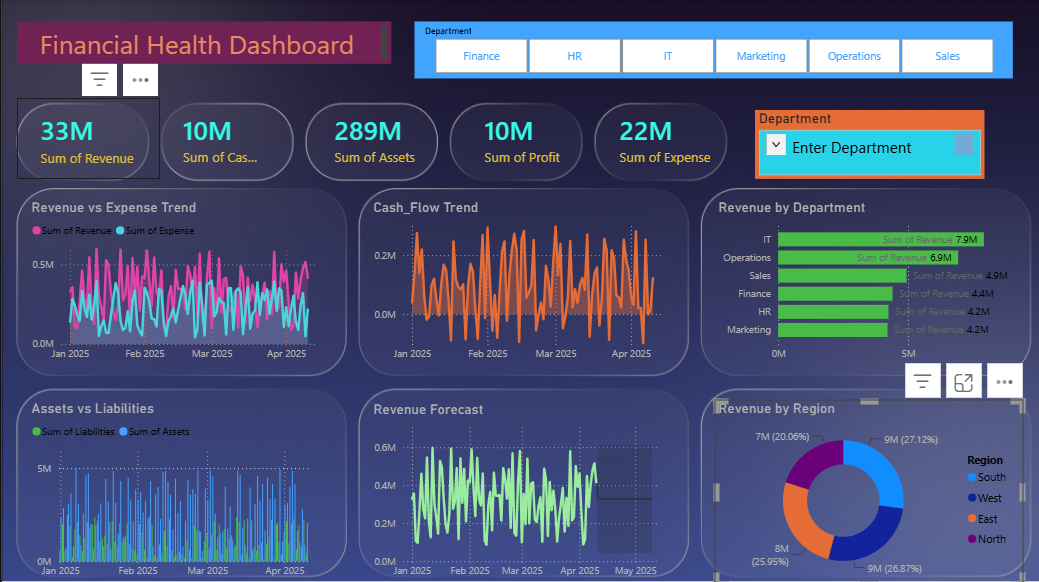

What the dashboard file says about the page in this screenshot:
{"tool":"powerbi","page":{"name":"Page 1","canvas":[1280,720],"ordinal":0},"visuals":[{"type":"lineChart","title":" Revenue vs Expense Trend","fields":{"Y":["Sum(company_financial_dataset.Revenue)","Sum(company_financial_dataset.Expense)"],"Category":["company_financial_dataset.Date"]},"box":[31.3,245.2,374.2,208.3],"z":0},{"type":"areaChart","title":" Cash_Flow Trend","fields":{"Y":["Sum(company_financial_dataset.Cash_Flow)"],"Category":["company_financial_dataset.Date"]},"box":[452,246,378,208],"z":1000},{"type":"barChart","title":"Revenue by Department","fields":{"Y":["Sum(company_financial_dataset.Revenue)"],"Category":["company_financial_dataset.Department"]},"box":[875.7,245.2,379.8,208.3],"z":2000},{"type":"clusteredColumnChart","title":"Assets vs Liabilities","fields":{"Y":["Sum(company_financial_dataset.Liabilities)","Sum(company_financial_dataset.Assets)"],"Category":["company_financial_dataset.Date"]},"box":[31.3,492.2,374.2,228.6],"z":3000},{"type":"lineChart","title":" Revenue Forecast","fields":{"Y":["Sum(company_financial_dataset.Revenue)"],"Category":["company_financial_dataset.Date"]},"box":[451.7,494.1,377.9,226.8],"z":4000},{"type":"donutChart","title":" Revenue by Region","fields":{"Y":["Sum(company_financial_dataset.Revenue)"],"Category":["company_financial_dataset.Region"]},"box":[875.7,492.2,379.8,228.6],"z":5000},{"type":"cardVisual","fields":{"Data":["Sum(company_financial_dataset.Revenue)"]},"box":[18,122,176,100],"z":6000},{"type":"cardVisual","fields":{"Data":["Sum(company_financial_dataset.Cash_Flow)"]},"box":[193.6,121.7,151.2,99.5],"z":7000},{"type":"cardVisual","fields":{"Data":["Sum(company_financial_dataset.Assets)"]},"box":[379.8,121.7,197.3,99.5],"z":8000},{"type":"cardVisual","fields":{"Data":["Sum(company_financial_dataset.Profit)"]},"box":[564.1,121.7,151.2,99.5],"z":9000},{"type":"cardVisual","fields":{"Data":["Sum(company_financial_dataset.Expense)"]},"box":[730,121.7,195.4,99.5],"z":10000},{"type":"textSlicer","fields":{"Values":["company_financial_dataset.Department"]},"box":[925.4,136.4,282.1,84.8],"z":11000},{"type":"textbox","box":[18,28,460,52],"z":12000},{"type":"slicer","fields":{"Values":["company_financial_dataset.Department"]},"box":[507,27.7,735.6,70.1],"z":13000}]}

Visuals, with their boxes in screenshot pixels (x1, y1, x2, y2), scaled from the page's 1280x720 canvas onto the 1039x582 screenshot:
" Revenue vs Expense Trend" lineChart: (left=25, top=198, right=329, bottom=367)
" Cash_Flow Trend" areaChart: (left=367, top=199, right=674, bottom=367)
"Revenue by Department" barChart: (left=711, top=198, right=1019, bottom=367)
"Assets vs Liabilities" clusteredColumnChart: (left=25, top=398, right=329, bottom=581)
" Revenue Forecast" lineChart: (left=367, top=399, right=673, bottom=581)
" Revenue by Region" donutChart: (left=711, top=398, right=1019, bottom=581)
cardVisual - Sum(company_financial_dataset.Revenue): (left=15, top=99, right=157, bottom=179)
cardVisual - Sum(company_financial_dataset.Cash_Flow): (left=157, top=98, right=280, bottom=179)
cardVisual - Sum(company_financial_dataset.Assets): (left=308, top=98, right=468, bottom=179)
cardVisual - Sum(company_financial_dataset.Profit): (left=458, top=98, right=581, bottom=179)
cardVisual - Sum(company_financial_dataset.Expense): (left=593, top=98, right=751, bottom=179)
textSlicer - company_financial_dataset.Department: (left=751, top=110, right=980, bottom=179)
textbox: (left=15, top=23, right=388, bottom=65)
slicer - company_financial_dataset.Department: (left=412, top=22, right=1009, bottom=79)
